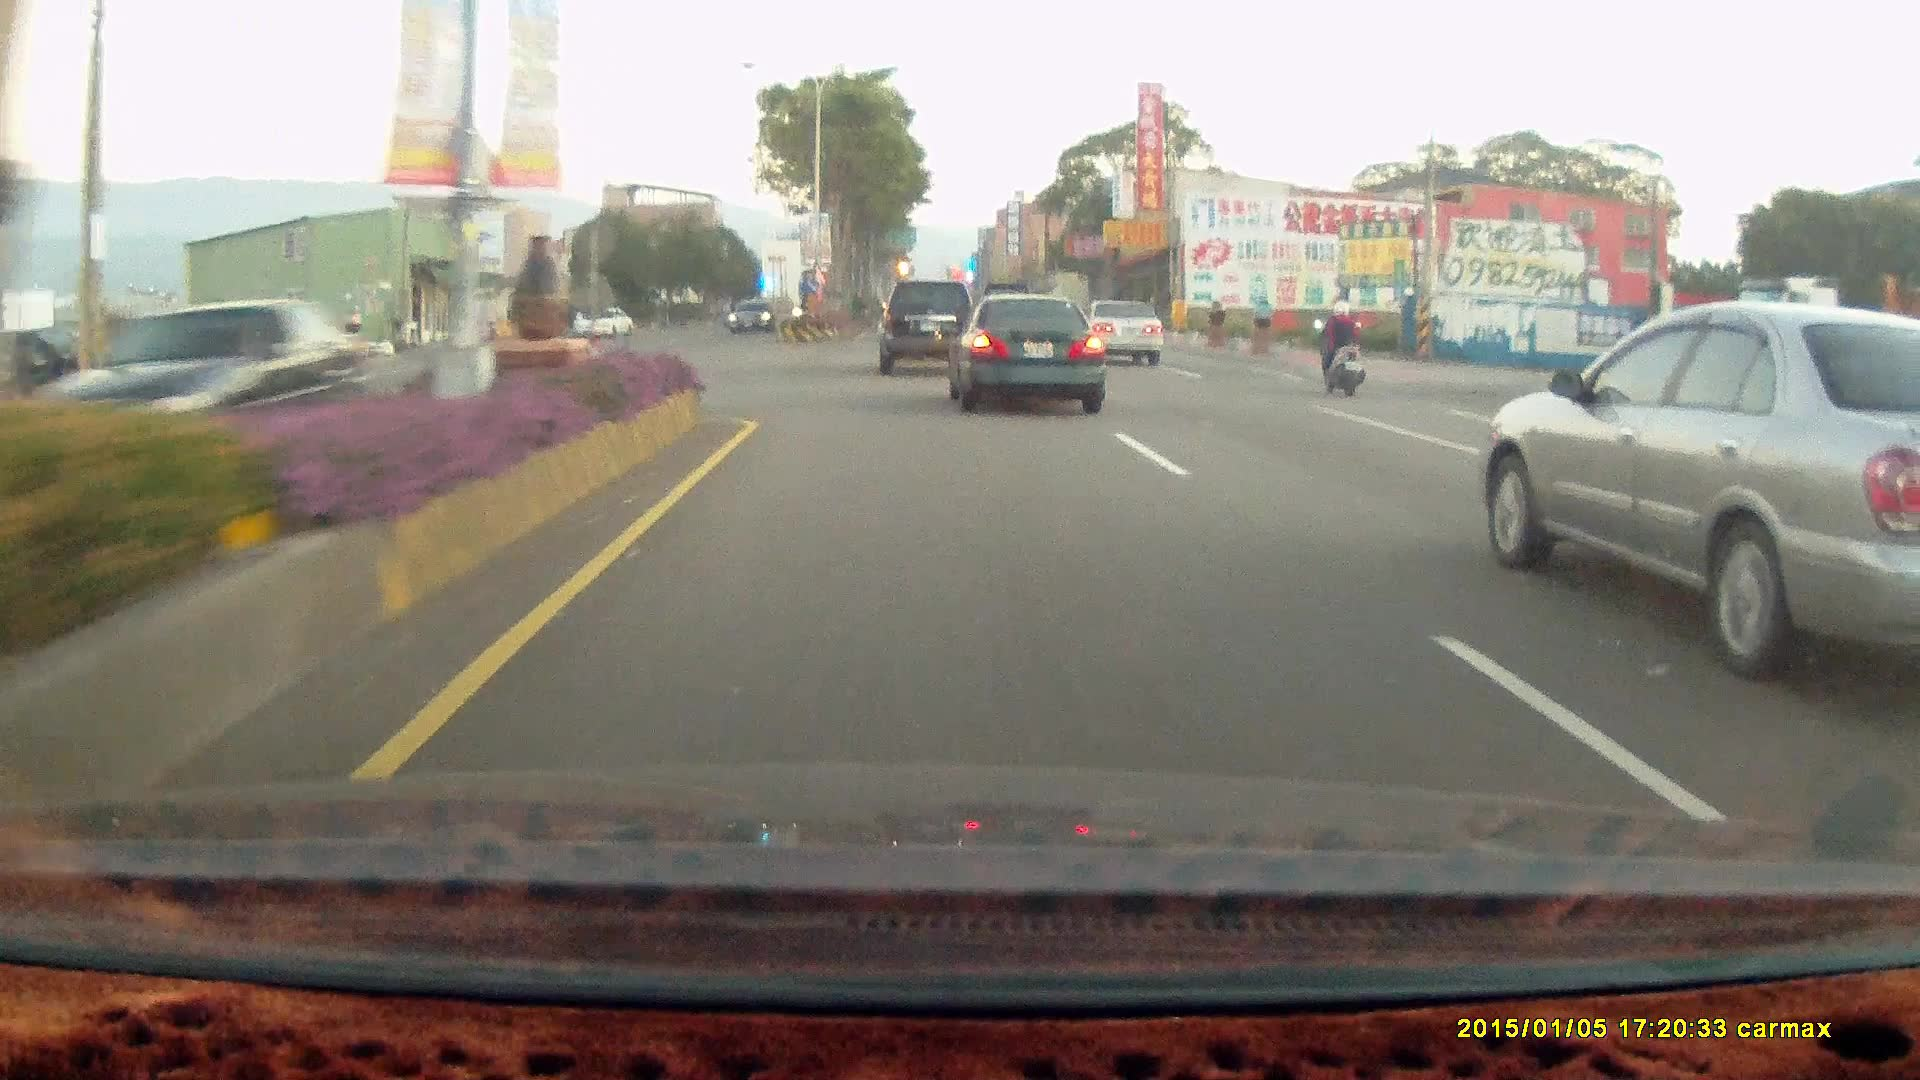pedestrian: (6, 329, 34, 398)
rider: (1303, 291, 1376, 405), (1309, 297, 1365, 395)
vehicle: (1476, 304, 1920, 678), (37, 297, 370, 487), (935, 292, 1097, 411), (955, 296, 1113, 416), (880, 279, 982, 376), (876, 280, 975, 376), (1078, 297, 1165, 367), (1078, 296, 1163, 365), (573, 306, 636, 341), (571, 306, 633, 340), (726, 297, 777, 337), (725, 298, 774, 333)
